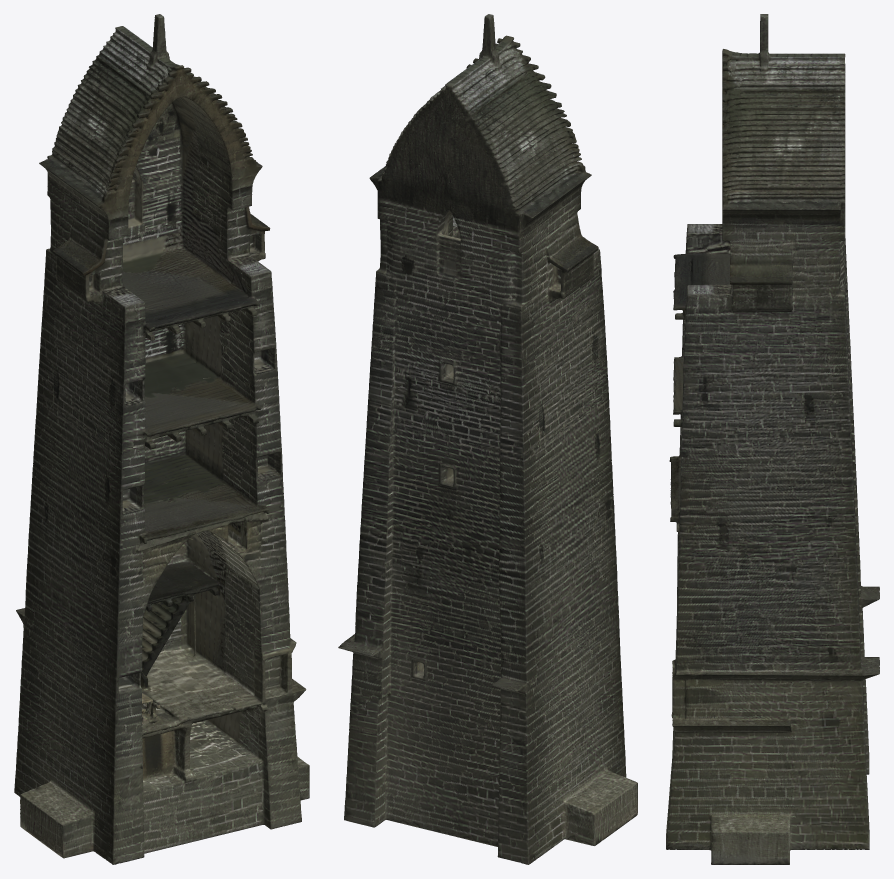
Rendered from tower-section.glb.
The picture shows the model from 3 angles, left to right: view 1: azimuth 30°, elevation 25°; view 2: azimuth 150°, elevation 25°; view 3: azimuth 270°, elevation 25°; orthographic projection.
Bounding box in the file's own units: 0.6179 × 1.9 × 0.4661.
Materials: 1 (1 with a texture image).
